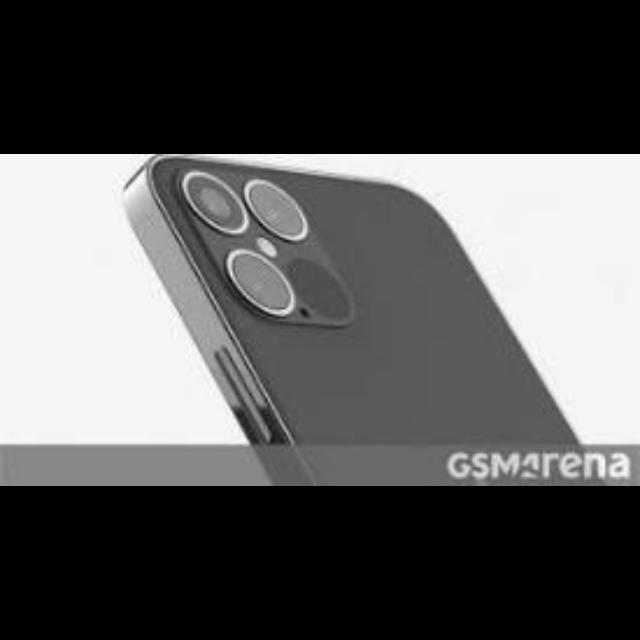fake: (100, 158, 632, 468)
